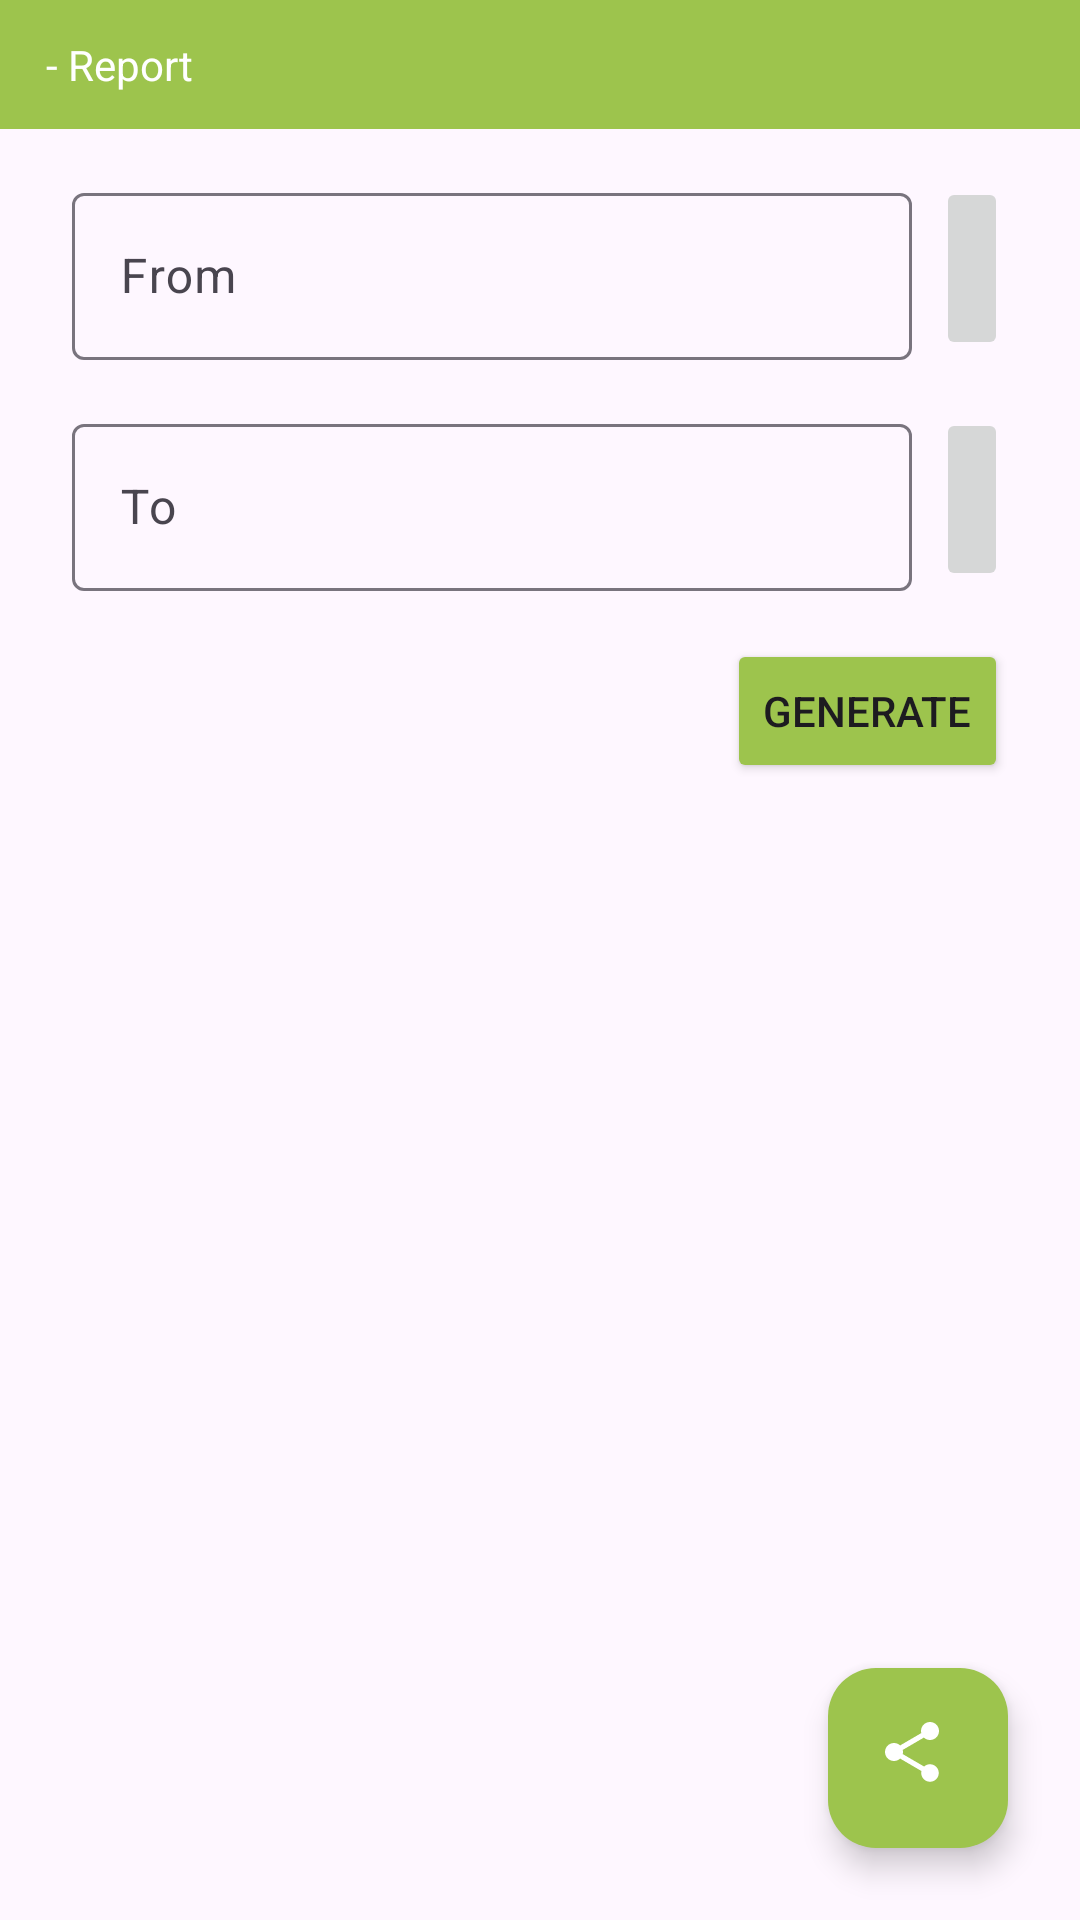

Screen size 1080×1920. Icon name, then its center in pixels as [x,y]:
share: [918,1758]
